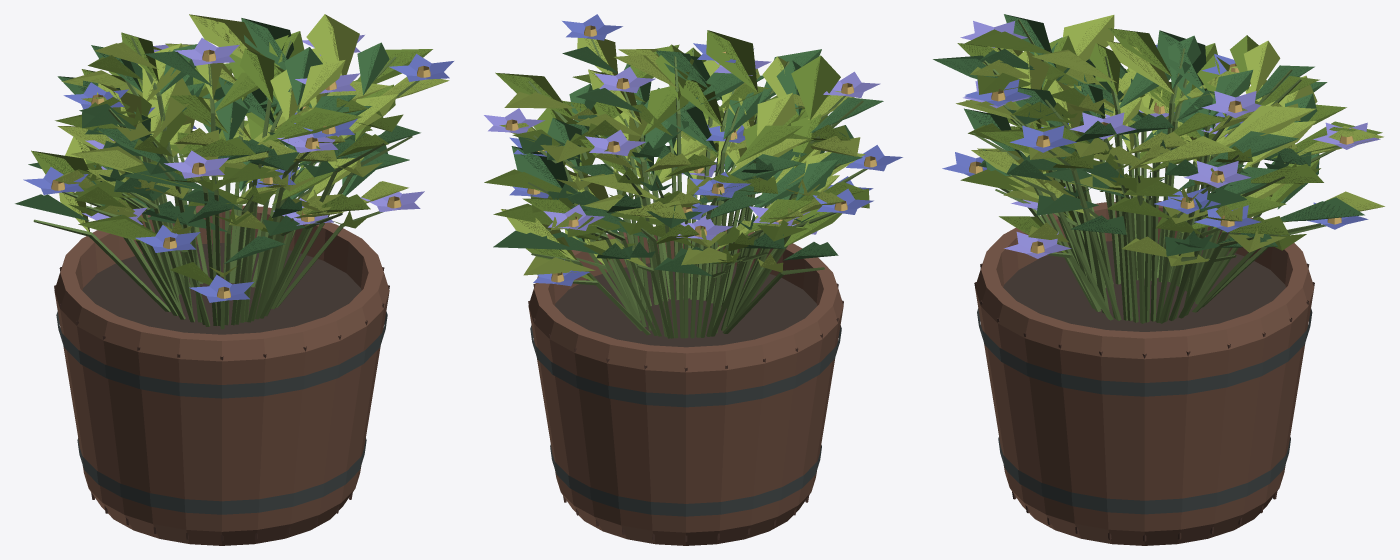
The model's file is flower_tub.gltf.
3 renders of one model, left to right at view 1: azimuth 30°, elevation 25°; view 2: azimuth 150°, elevation 25°; view 3: azimuth 270°, elevation 25°, orthographic. The views are drawn at different scales.
Visible parts, largest first — view 1: flower_tub; view 2: flower_tub; view 3: flower_tub.
Boxes of the visible parts, x1,y1,x2,y2 form: flower_tub: (15, 14, 453, 545); flower_tub: (484, 14, 902, 545); flower_tub: (933, 14, 1384, 545).
Size of the model in its own units: 0.6967 by 0.7227 by 0.6813.
